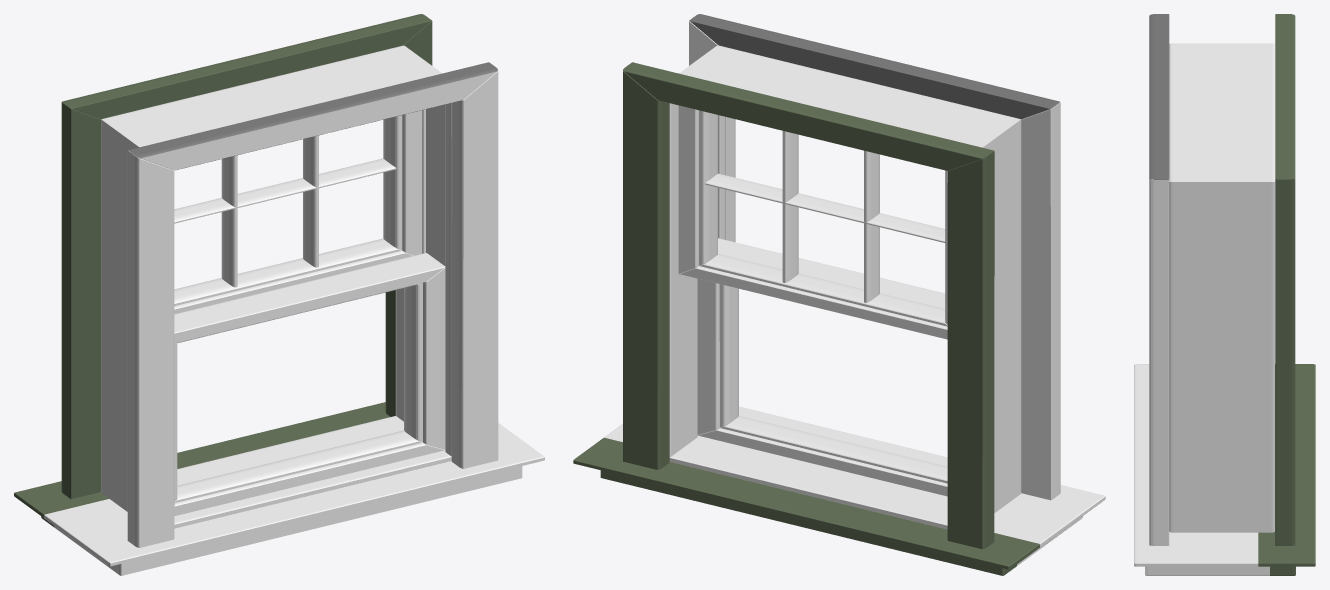
The model's file is window.obj.
3 renders of one model, left to right at view 1: azimuth 30°, elevation 25°; view 2: azimuth 150°, elevation 25°; view 3: azimuth 270°, elevation 25°, orthographic. The views are drawn at different scales.
Parts seen in each view (by area): view 1: window:Ventana20marcoExtEnL, window:Ventana20bordeInt1, window:Ventana20bordeInt, window:Ventana20marcoExtInf1, window:Ventana20marcoExtDer, window:Ventana20, window:Ventana20marcoExtSup, window:Ventana20WindowObjekt_03Leaf1Leaf__horizontal_022, window:Ventana20marcoExtInf, window:Ventana20WindowObjekt_03FilletFillet_horizontal_022, window:Ventana20WindowObjekt_03Leaf1Leaf__vertical_03, window:Ventana20WindowObjekt_03Leaf1Leaf__horizontal_023 (+9 smaller); view 2: window:Ventana20marcoExtEnL, window:Ventana20marcoExtDer, window:Ventana20marcoExtIzq, window:Ventana20marcoExtInf1, window:Ventana20bordeInt1, window:Ventana20marcoExtSup, window:Ventana20, window:Ventana20WindowObjekt_02Fillet1Fillet_horizontal_03, window:Ventana20WindowObjekt_03FilletFillet_horizontal_022, window:Ventana20marcoExtInf, window:Ventana20marcoExtMid, window:Ventana20WindowObjekt_03Leaf1Leaf__vertical_03 (+9 smaller); view 3: window:Ventana20marcoExtEnL, window:Ventana20marcoExtInf1, window:Ventana20bordeInt, window:Ventana20marcoExtIzq, window:Ventana20, window:Ventana20marcoExtSup, window:Ventana20marcoExtInf.
Part boxes in pixels (x1,y1,x2,y2): window:Ventana20marcoExtEnL: [101, 45, 451, 528]; window:Ventana20bordeInt1: [127, 150, 174, 547]; window:Ventana20bordeInt: [451, 68, 498, 468]; window:Ventana20marcoExtInf1: [14, 402, 544, 566]; window:Ventana20marcoExtDer: [61, 102, 101, 499]; window:Ventana20: [128, 62, 497, 170]; window:Ventana20marcoExtSup: [62, 14, 431, 119]; window:Ventana20WindowObjekt_03Leaf1Leaf__horizontal_022: [174, 253, 444, 343]; window:Ventana20marcoExtInf: [41, 466, 522, 575]; window:Ventana20WindowObjekt_03FilletFillet_horizontal_022: [174, 430, 422, 502]; window:Ventana20WindowObjekt_03Leaf1Leaf__vertical_03: [423, 267, 445, 449]; window:Ventana20WindowObjekt_03Leaf1Leaf__horizontal_023: [174, 442, 444, 515]; window:Ventana20marcoExtEnL: [669, 45, 1021, 529]; window:Ventana20marcoExtDer: [947, 151, 994, 549]; window:Ventana20marcoExtIzq: [623, 69, 669, 469]; window:Ventana20marcoExtInf1: [573, 406, 1105, 569]; window:Ventana20bordeInt1: [1021, 102, 1060, 500]; window:Ventana20marcoExtSup: [623, 62, 993, 170]; window:Ventana20: [689, 14, 1059, 119]; window:Ventana20WindowObjekt_02Fillet1Fillet_horizontal_03: [699, 254, 947, 326]; window:Ventana20WindowObjekt_03FilletFillet_horizontal_022: [720, 416, 947, 483]; window:Ventana20marcoExtInf: [600, 470, 1082, 575]; window:Ventana20marcoExtMid: [679, 266, 947, 339]; window:Ventana20WindowObjekt_03Leaf1Leaf__vertical_03: [697, 279, 719, 434]; window:Ventana20marcoExtEnL: [1169, 43, 1274, 532]; window:Ventana20marcoExtInf1: [1134, 364, 1315, 566]; window:Ventana20bordeInt: [1149, 179, 1169, 545]; window:Ventana20marcoExtIzq: [1275, 179, 1295, 545]; window:Ventana20: [1149, 14, 1169, 179]; window:Ventana20marcoExtSup: [1275, 14, 1295, 179]; window:Ventana20marcoExtInf: [1145, 566, 1295, 575].
Size of the model in its own units: 5.85 by 5.3 by 2.25.
5 materials, 4 textured.
